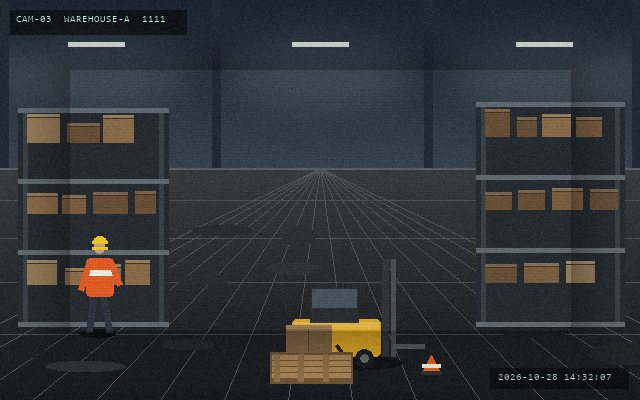cone: (420, 353, 442, 377)
forklift: (288, 256, 426, 370)
pallet: (268, 350, 354, 385)
person: (78, 234, 122, 336)
shelf: (476, 102, 624, 322), (18, 108, 168, 322)
